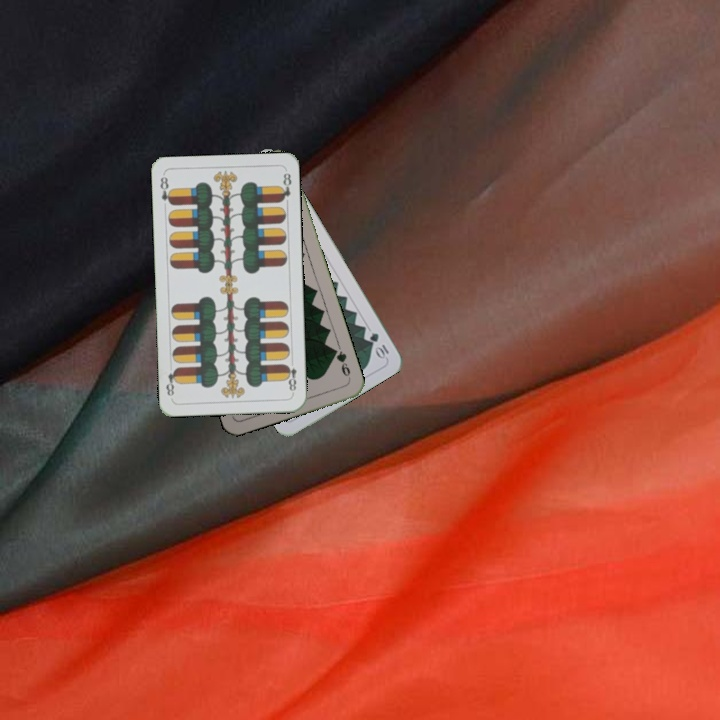E8: (156, 173, 175, 208), (282, 361, 299, 396)
G10: (365, 329, 392, 361)
G9: (329, 345, 353, 383)
